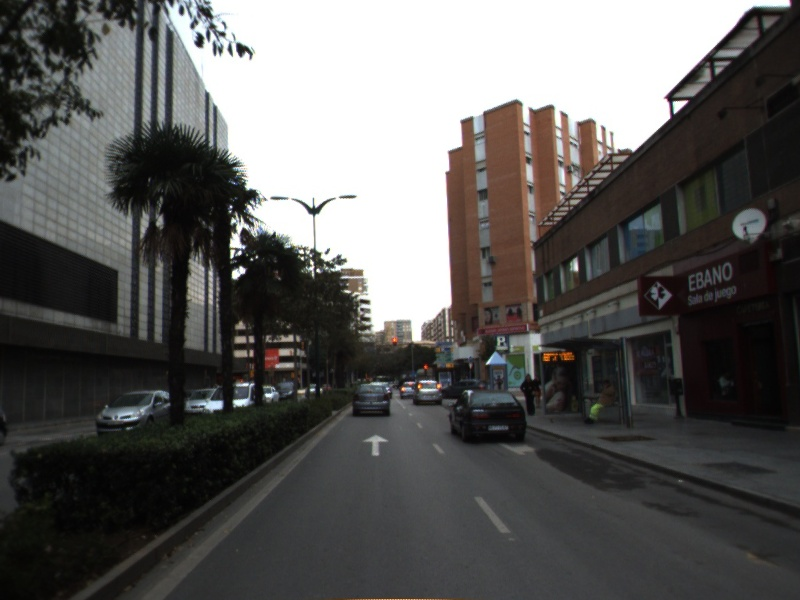STRAIGHT: (360, 433, 391, 457)
